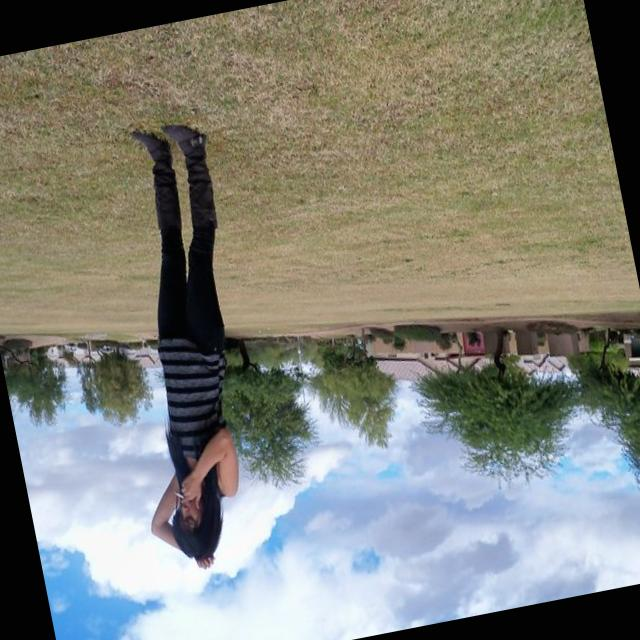smoke: (160, 470, 182, 505)
